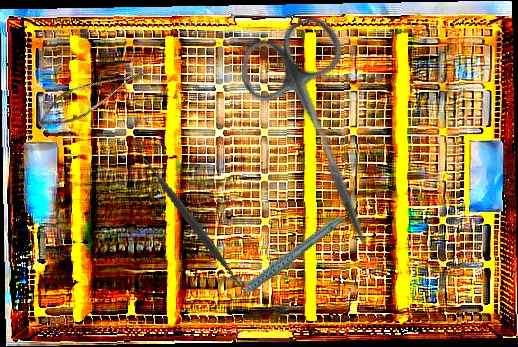Handpiece: (214, 213, 356, 303)
Iris Scissors: (230, 10, 418, 265)
Micro Scissor: (33, 43, 150, 146)
Spatula Surgical: (112, 143, 273, 301)
